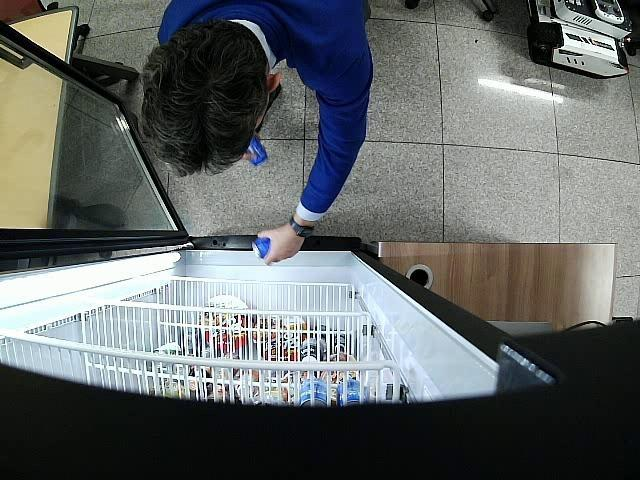13_pocariSweat: (246, 134, 268, 166), (251, 238, 271, 258)
